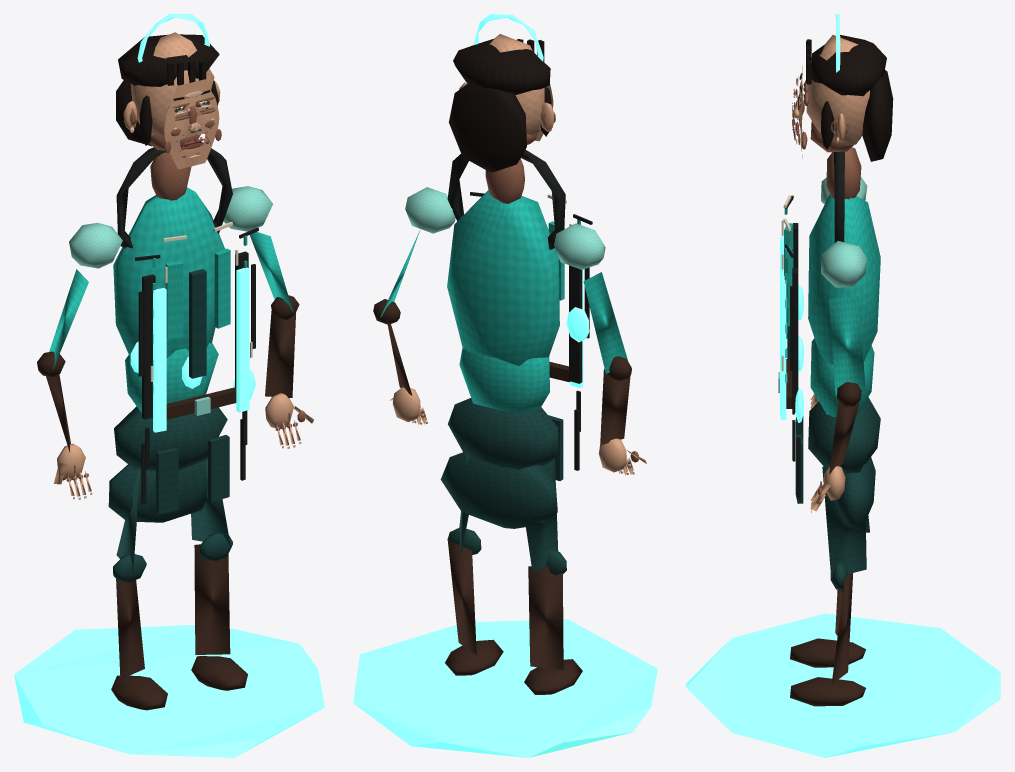
The model's file is jade-trickster-lod1.glb.
The picture shows the model from 3 angles, left to right: view 1: azimuth 30°, elevation 25°; view 2: azimuth 150°, elevation 25°; view 3: azimuth 270°, elevation 25°; orthographic projection.
Parts seen in each view (by area): view 1: jade-trickster_table_scale_base_lod1, jade-trickster_ribcage_lod1, jade-trickster_pelvis_lod1, jade-trickster_coat_tail_lod1, jade-trickster_right_shin_lod1, jade-trickster_hair_cap_lod1, jade-trickster_face_sculpt_surface_lod1, jade-trickster_head_lod1, jade-trickster_left_shin_lod1, jade-trickster_abdomen_lod1, jade-trickster_raised_collar_lod1, jade-trickster_right_forearm_lod1 (+26 smaller); view 2: jade-trickster_table_scale_base_lod1, jade-trickster_ribcage_lod1, jade-trickster_coat_tail_lod1, jade-trickster_pelvis_lod1, jade-trickster_back_hair_mass_lod1, jade-trickster_abdomen_lod1, jade-trickster_hair_cap_lod1, jade-trickster_left_shin_lod1, jade-trickster_right_shin_lod1, jade-trickster_left_upper_arm_lod1, jade-trickster_raised_collar_lod1, jade-trickster_left_shoulder_lod1 (+13 smaller); view 3: jade-trickster_table_scale_base_lod1, jade-trickster_ribcage_lod1, jade-trickster_pelvis_lod1, jade-trickster_hair_cap_lod1, jade-trickster_right_upper_arm_lod1, jade-trickster_head_lod1, jade-trickster_right_thigh_lod1, jade-trickster_back_hair_mass_lod1, jade-trickster_abdomen_lod1, jade-trickster_coat_tail_lod1, jade-trickster_right_boot_lod1, jade-trickster_right_shoulder_lod1 (+8 smaller).
Part boxes in pixels (bbox=[...]): jade-trickster_table_scale_base_lod1: bbox=[14, 625, 324, 757]; jade-trickster_ribcage_lod1: bbox=[113, 187, 224, 358]; jade-trickster_pelvis_lod1: bbox=[114, 406, 227, 471]; jade-trickster_coat_tail_lod1: bbox=[108, 460, 207, 522]; jade-trickster_right_shin_lod1: bbox=[194, 544, 230, 654]; jade-trickster_hair_cap_lod1: bbox=[118, 34, 219, 86]; jade-trickster_face_sculpt_surface_lod1: bbox=[164, 79, 219, 169]; jade-trickster_head_lod1: bbox=[130, 32, 214, 135]; jade-trickster_left_shin_lod1: bbox=[116, 579, 144, 679]; jade-trickster_abdomen_lod1: bbox=[125, 343, 218, 412]; jade-trickster_raised_collar_lod1: bbox=[116, 141, 232, 248]; jade-trickster_right_forearm_lod1: bbox=[265, 311, 295, 397]; jade-trickster_table_scale_base_lod1: bbox=[353, 619, 657, 757]; jade-trickster_ribcage_lod1: bbox=[447, 190, 559, 365]; jade-trickster_coat_tail_lod1: bbox=[440, 452, 557, 528]; jade-trickster_pelvis_lod1: bbox=[448, 398, 559, 469]; jade-trickster_back_hair_mass_lod1: bbox=[448, 82, 526, 172]; jade-trickster_abdomen_lod1: bbox=[459, 348, 549, 413]; jade-trickster_hair_cap_lod1: bbox=[453, 39, 550, 94]; jade-trickster_left_shin_lod1: bbox=[528, 566, 563, 670]; jade-trickster_right_shin_lod1: bbox=[447, 540, 476, 654]; jade-trickster_left_upper_arm_lod1: bbox=[583, 272, 628, 373]; jade-trickster_raised_collar_lod1: bbox=[447, 149, 565, 249]; jade-trickster_left_shoulder_lod1: bbox=[554, 223, 605, 269]; jade-trickster_table_scale_base_lod1: bbox=[686, 613, 1000, 757]; jade-trickster_ribcage_lod1: bbox=[808, 194, 880, 364]; jade-trickster_pelvis_lod1: bbox=[808, 397, 880, 473]; jade-trickster_hair_cap_lod1: bbox=[811, 35, 886, 96]; jade-trickster_right_upper_arm_lod1: bbox=[829, 296, 865, 395]; jade-trickster_head_lod1: bbox=[806, 35, 870, 147]; jade-trickster_right_thigh_lod1: bbox=[822, 463, 866, 578]; jade-trickster_back_hair_mass_lod1: bbox=[862, 70, 893, 161]; jade-trickster_abdomen_lod1: bbox=[810, 338, 874, 416]; jade-trickster_coat_tail_lod1: bbox=[836, 457, 875, 529]; jade-trickster_right_boot_lod1: bbox=[790, 677, 865, 706]; jade-trickster_right_shoulder_lod1: bbox=[821, 241, 867, 287].
Bounding box in the file's own units: 0.8602 × 2.04 × 0.8602.
Materials: 17 (15 with a texture image).
